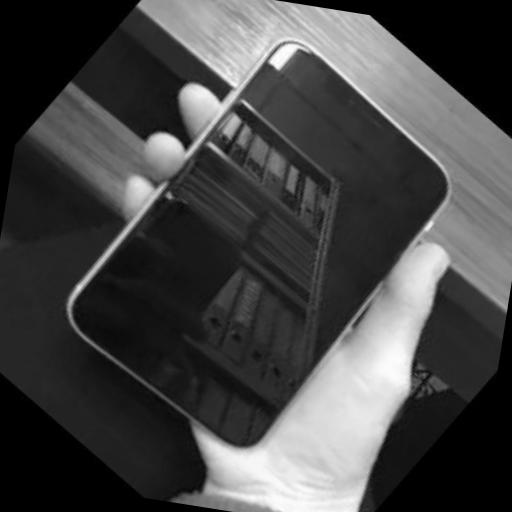phone: (66, 38, 449, 445)
